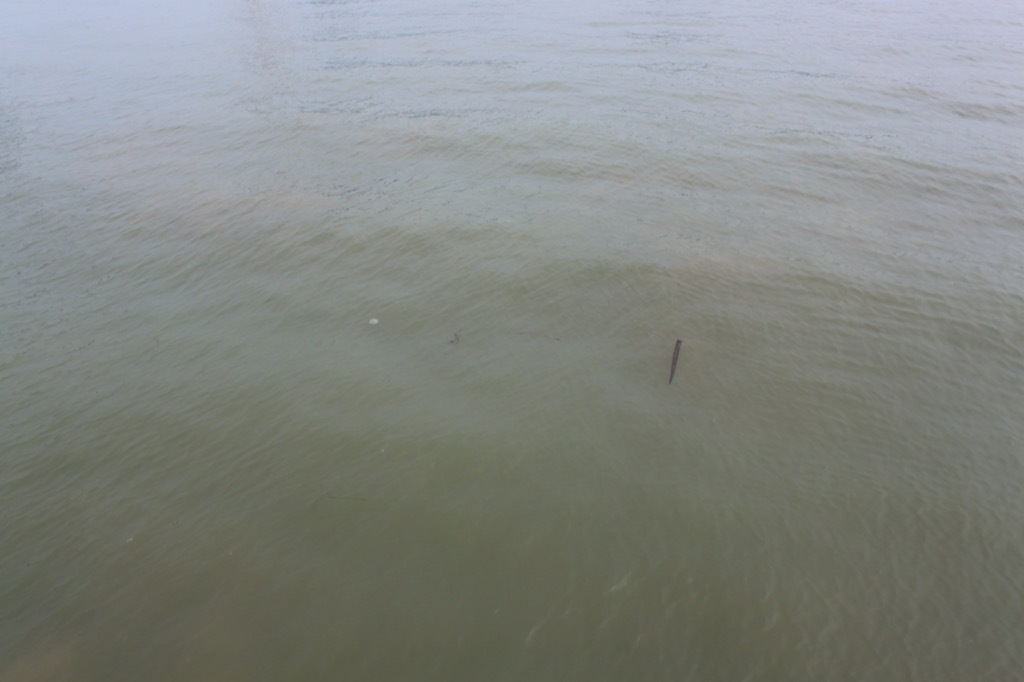organic: (305, 484, 375, 522), (658, 328, 696, 391), (512, 327, 560, 347), (447, 324, 465, 349)
plastic: (365, 314, 381, 329)
